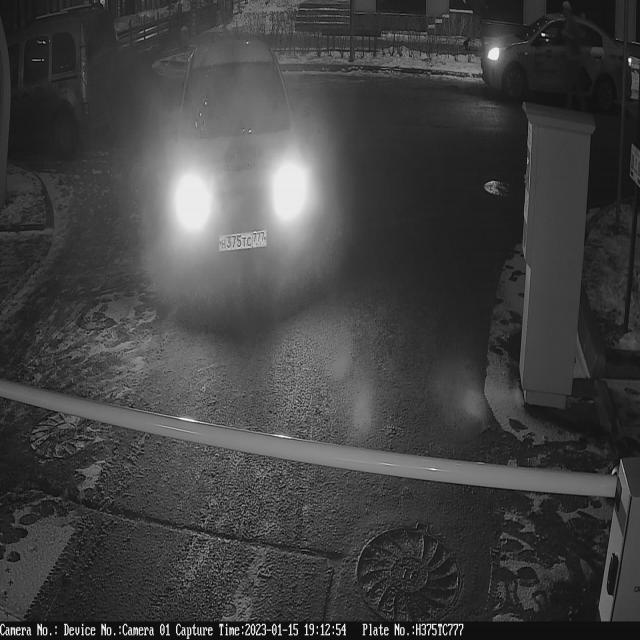car-plate-numbers: (218, 229, 271, 255)
